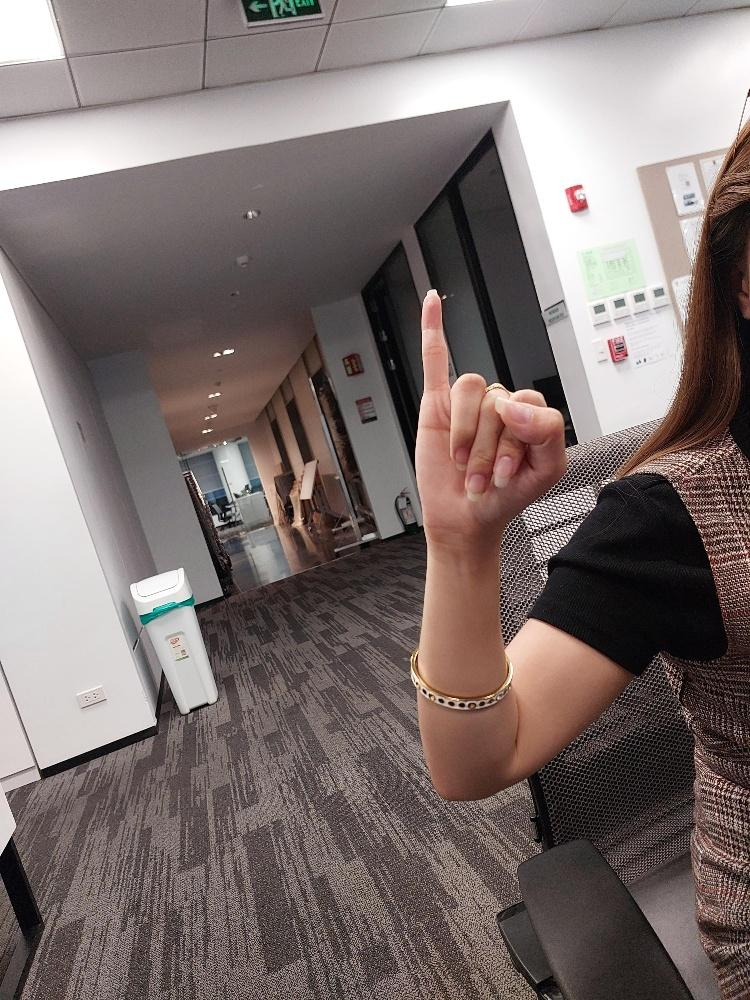i: (409, 283, 570, 543)
